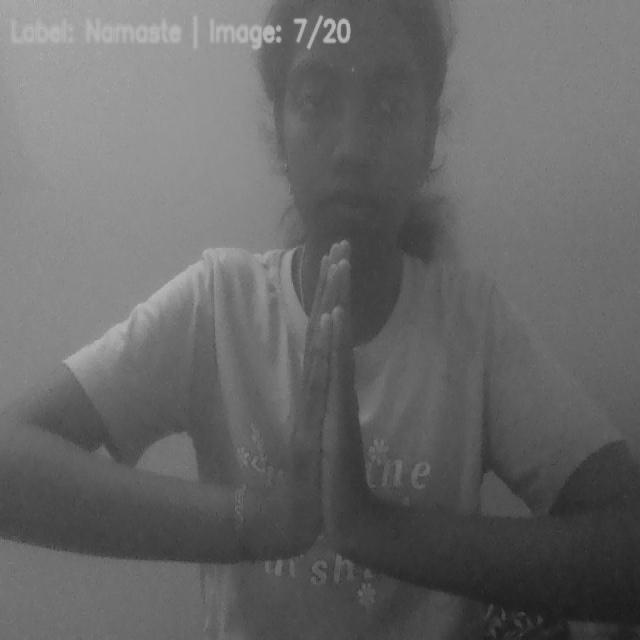Namaste: (273, 237, 393, 567)
